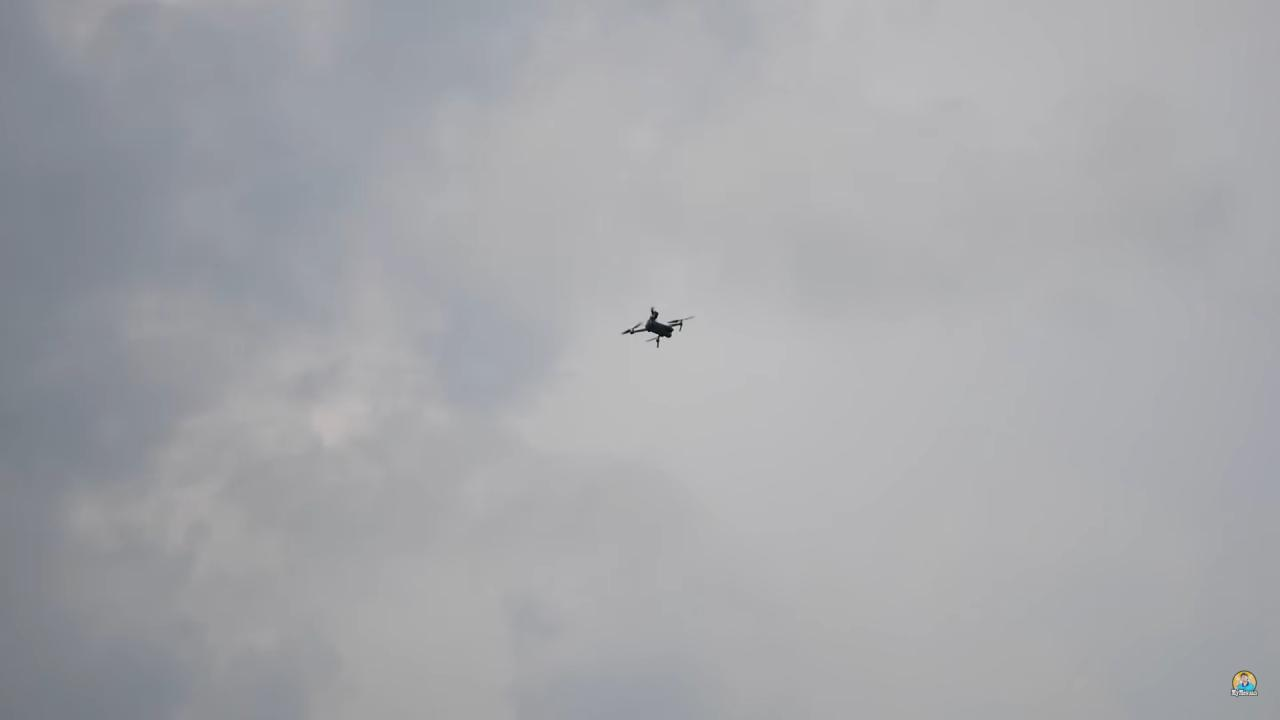Drone: (616, 302, 699, 354)
